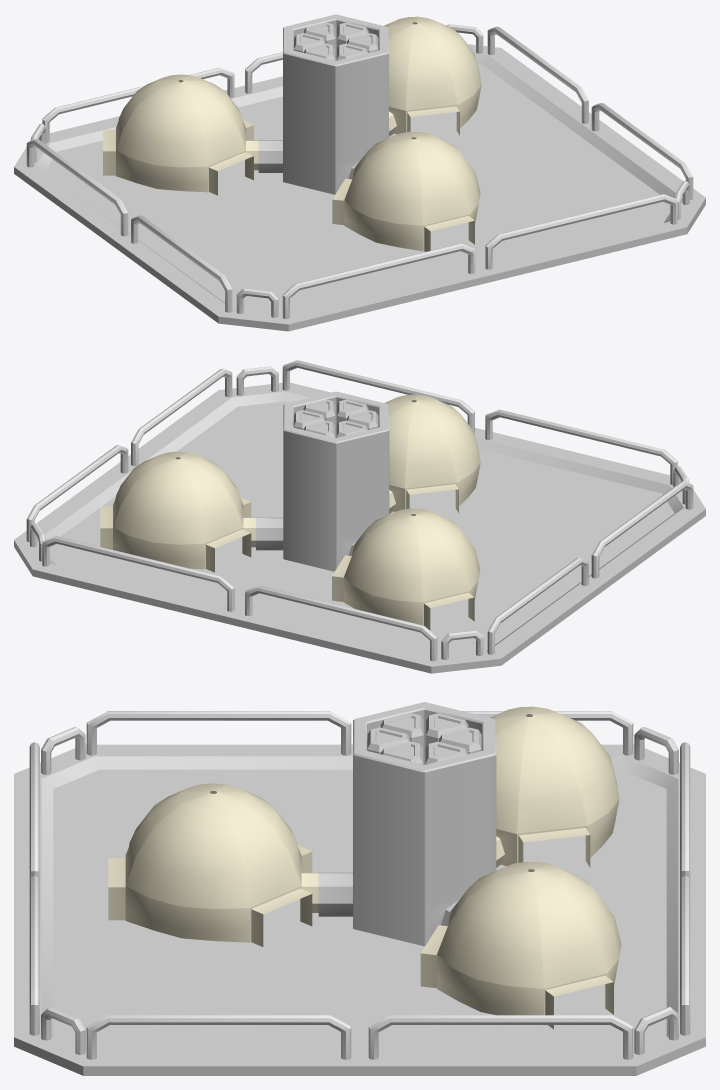
3 renders of one model, top to bottom at view 1: azimuth 30°, elevation 25°; view 2: azimuth 150°, elevation 25°; view 3: azimuth 270°, elevation 25°, orthographic. The views are drawn at different scales.
Visible parts, largest first — view 1: Box006, Cylinder008, 01.CommandCenter003, 01.CommandCenter005, 01.CommandCenter004, Shape003, Shape004, Shape006, Shape007, Shape005, Shape010, Shape009 (+1 smaller); view 2: Box006, Cylinder008, 01.CommandCenter004, 01.CommandCenter003, 01.CommandCenter005, Shape008, Shape007, Shape003, Shape004, Shape005, Shape006, Shape009 (+3 smaller); view 3: Box006, Cylinder008, 01.CommandCenter005, 01.CommandCenter004, 01.CommandCenter003, Shape009, Shape010, Shape005, Shape004, Shape008, Shape003, Shape007 (+9 smaller).
Part boxes in pixels (x1,y1,x2,y2): Box006: (14, 44, 705, 331); Cylinder008: (258, 14, 390, 194); 01.CommandCenter003: (103, 74, 258, 195); 01.CommandCenter005: (332, 131, 480, 251); 01.CommandCenter004: (384, 16, 481, 136); Shape003: (282, 243, 475, 318); Shape004: (485, 194, 677, 269); Shape006: (26, 139, 128, 236); Shape007: (42, 67, 234, 142); Shape005: (131, 215, 232, 312); Shape010: (487, 26, 588, 123); Shape009: (591, 103, 693, 199); Box006: (14, 382, 705, 673); Cylinder008: (256, 391, 389, 571); 01.CommandCenter004: (100, 451, 255, 572); 01.CommandCenter003: (332, 508, 480, 630); 01.CommandCenter005: (384, 394, 480, 513); Shape008: (42, 536, 234, 611); Shape007: (245, 586, 437, 661); Shape003: (485, 409, 677, 485); Shape004: (282, 360, 474, 433); Shape005: (591, 481, 693, 578); Shape006: (487, 557, 588, 654); Shape009: (131, 368, 232, 465); Box006: (14, 744, 705, 1075); Cylinder008: (318, 702, 496, 946); 01.CommandCenter005: (108, 783, 318, 946); 01.CommandCenter004: (420, 861, 621, 1029); 01.CommandCenter003: (490, 706, 619, 867); Shape009: (86, 1015, 351, 1059); Shape010: (368, 1015, 633, 1059); Shape005: (86, 711, 351, 755); Shape004: (29, 876, 39, 1035); Shape008: (680, 876, 690, 1035); Shape003: (29, 742, 39, 880); Shape007: (680, 742, 690, 880).
Size of the model in its own units: 1100 by 285 by 1000.
